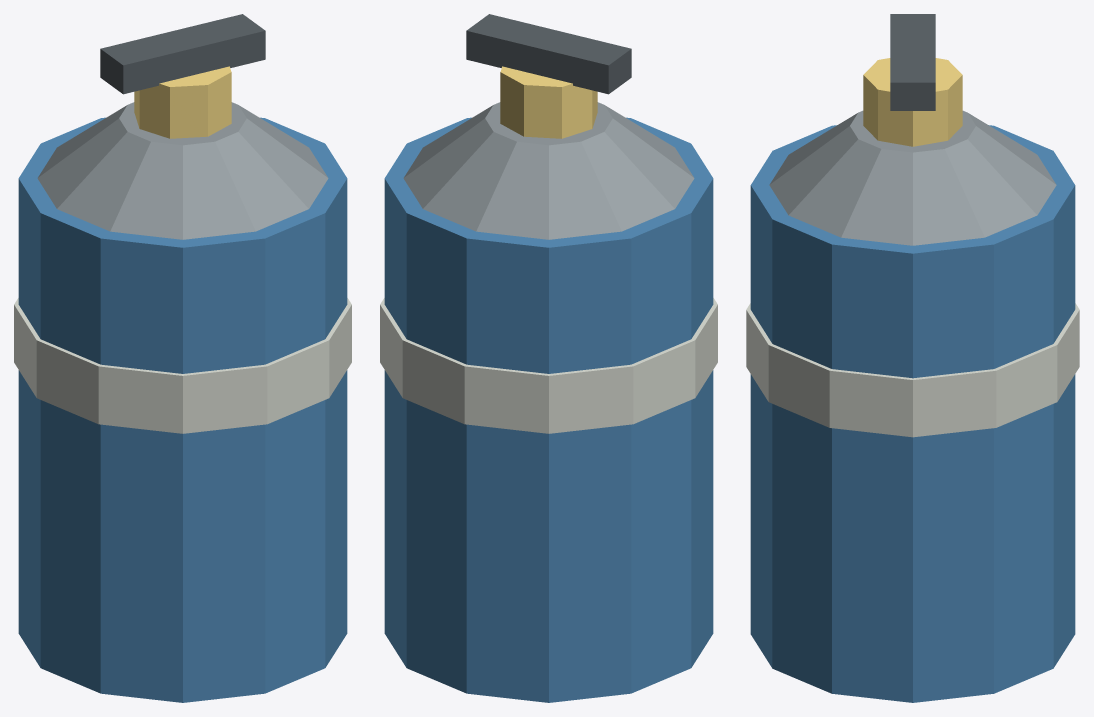
The model's file is oxygen.glb.
3 renders of one model, left to right at view 1: azimuth 30°, elevation 25°; view 2: azimuth 150°, elevation 25°; view 3: azimuth 270°, elevation 25°, orthographic.
Visible parts, largest first — view 1: oxygen / Oxygen blue, oxygen / Machined steel, oxygen / Ivory polymer, oxygen / Graphite enamel, oxygen / Gold markings and contacts; view 2: oxygen / Oxygen blue, oxygen / Machined steel, oxygen / Ivory polymer, oxygen / Graphite enamel, oxygen / Gold markings and contacts; view 3: oxygen / Oxygen blue, oxygen / Machined steel, oxygen / Ivory polymer, oxygen / Gold markings and contacts, oxygen / Graphite enamel.
Part boxes in pixels (box(x1,y1,x2,y2)): oxygen / Oxygen blue: box(18, 117, 347, 702); oxygen / Machined steel: box(37, 102, 328, 239); oxygen / Ivory polymer: box(14, 298, 351, 433); oxygen / Graphite enamel: box(100, 14, 265, 94); oxygen / Gold markings and contacts: box(134, 66, 231, 138); oxygen / Oxygen blue: box(384, 117, 713, 702); oxygen / Machined steel: box(403, 102, 694, 239); oxygen / Ivory polymer: box(380, 298, 717, 433); oxygen / Graphite enamel: box(466, 14, 631, 94); oxygen / Gold markings and contacts: box(500, 66, 597, 138); oxygen / Oxygen blue: box(750, 125, 1075, 702); oxygen / Machined steel: box(769, 110, 1056, 245); oxygen / Ivory polymer: box(746, 303, 1079, 437); oxygen / Gold markings and contacts: box(863, 58, 962, 146); oxygen / Graphite enamel: box(890, 14, 935, 110).
Bounding box in the file's own units: 0.148 × 0.287 × 0.148.
